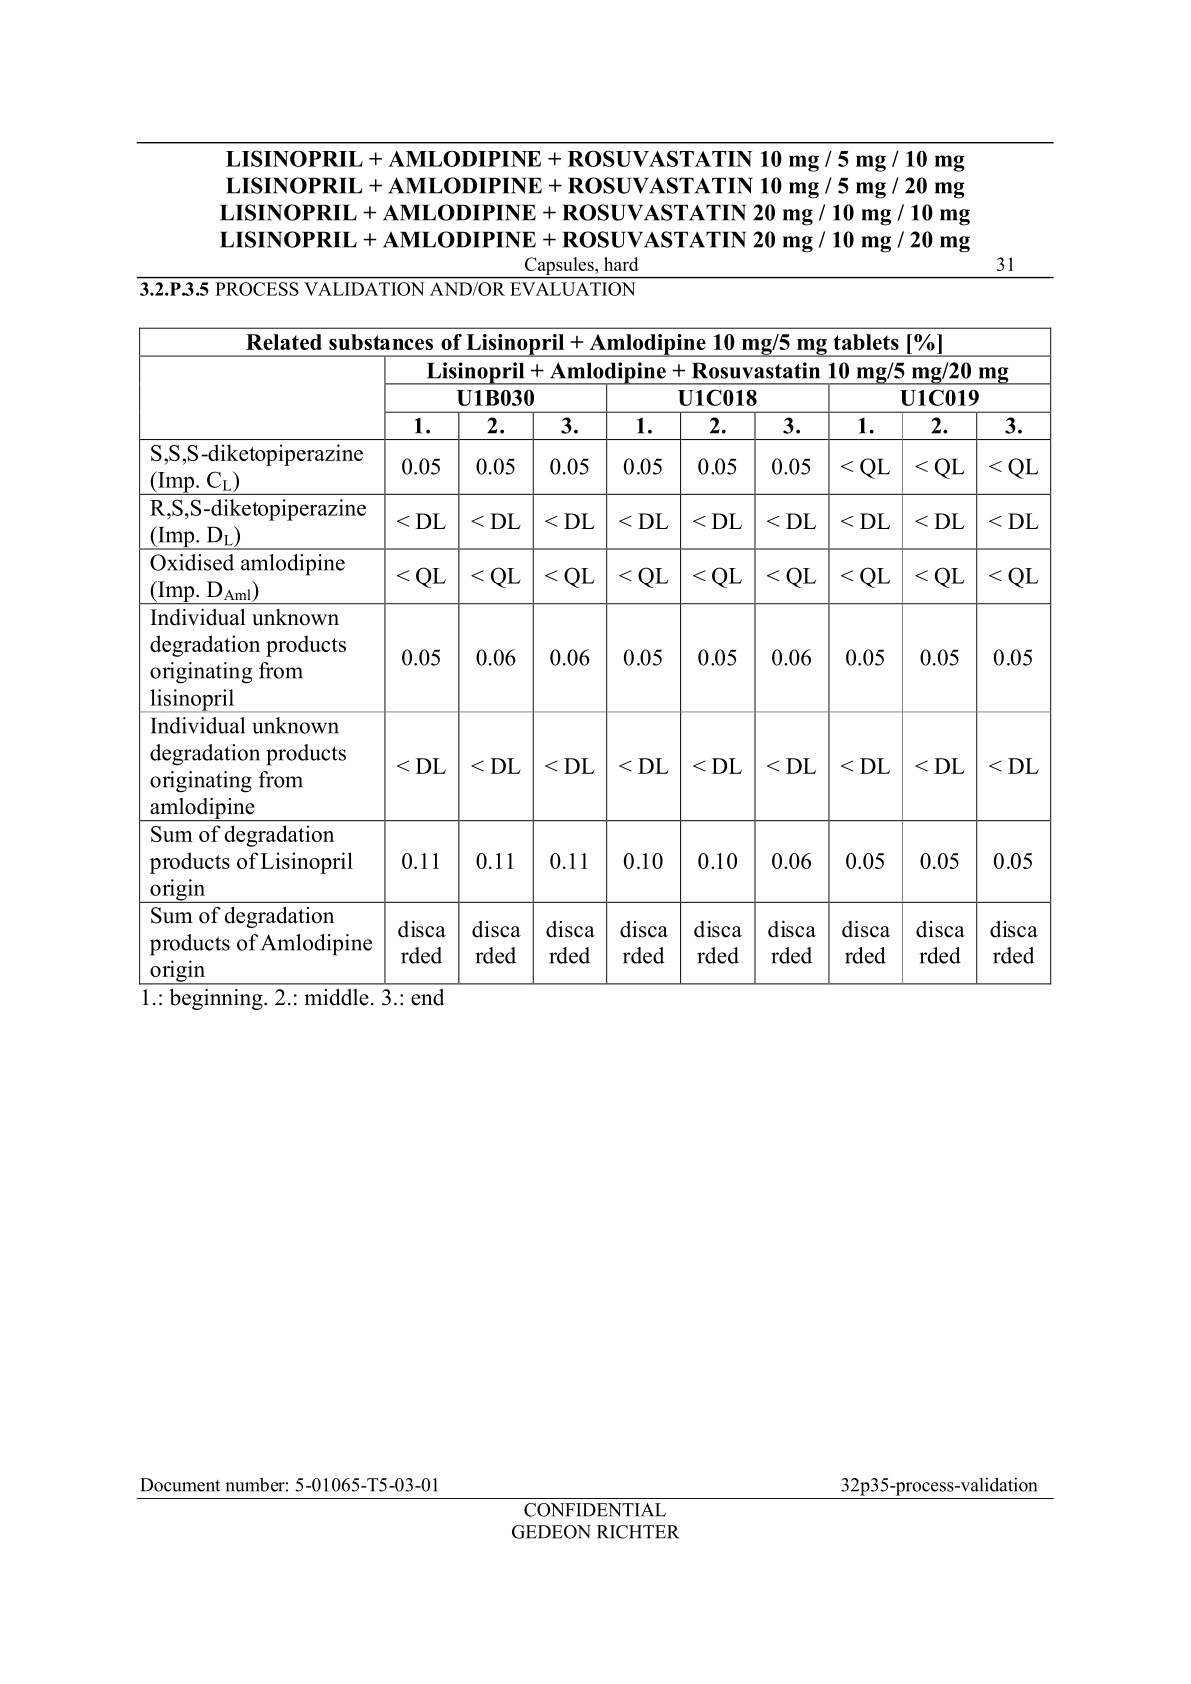merged_cells: (137, 326, 1051, 984)
